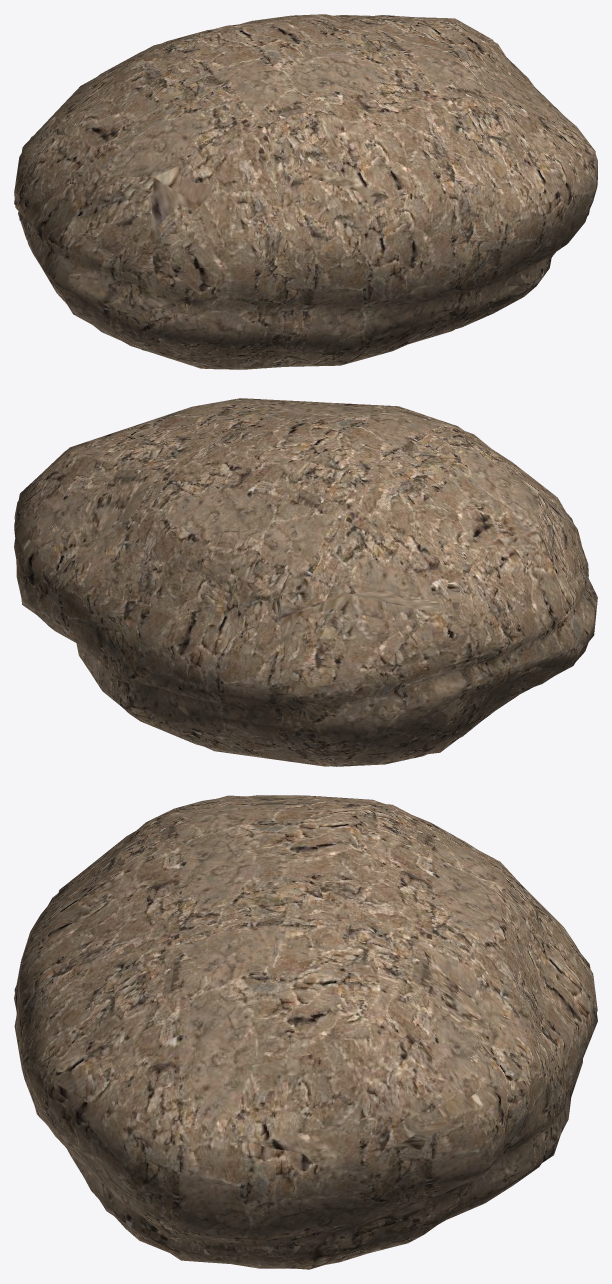
Rendered from rock-3.glb.
3 renders of one model, top to bottom at view 1: azimuth 30°, elevation 25°; view 2: azimuth 150°, elevation 25°; view 3: azimuth 270°, elevation 25°, orthographic. The views are drawn at different scales.
Parts seen in each view (by area): view 1: rock, rock_far; view 2: rock, rock_far; view 3: rock, rock_far.
Boxes of the visible parts, bbox=[...] form: rock: bbox=[14, 14, 597, 369]; rock_far: bbox=[14, 15, 595, 368]; rock: bbox=[14, 399, 597, 766]; rock_far: bbox=[14, 398, 597, 766]; rock: bbox=[14, 795, 597, 1268]; rock_far: bbox=[14, 795, 597, 1269].
Size of the model in its own units: 2.02 by 0.9766 by 1.62.
Materials: 1 (1 with a texture image).
